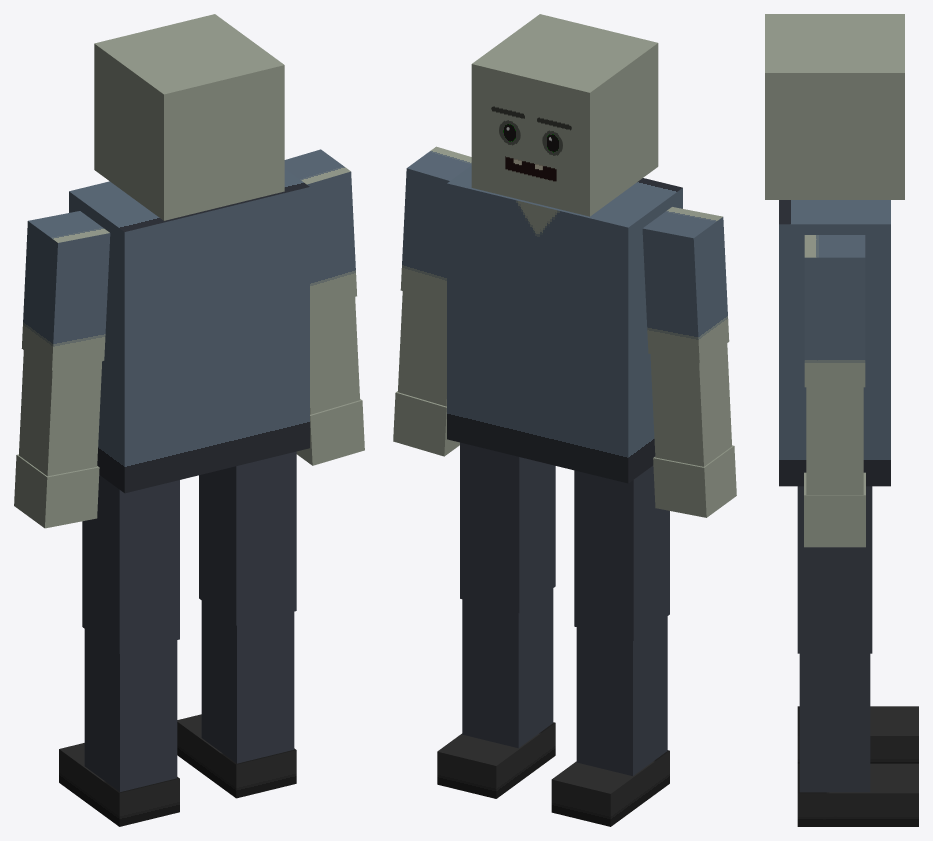
File: hair_bald.glb
3 renders of one model, left to right at view 1: azimuth 30°, elevation 25°; view 2: azimuth 150°, elevation 25°; view 3: azimuth 270°, elevation 25°, orthographic. The views are drawn at different scales.
Parts seen in each view (by area): view 1: block_torso, block_head, block_thigh.L, block_thigh.R, block_shin.R, block_shin.L, block_upper_arm.L, block_forearm.L, block_upper_arm.R, block_forearm.R, block_foot.L, block_foot.R (+2 smaller); view 2: block_torso, block_head, block_thigh.L, block_thigh.R, block_shin.L, block_shin.R, block_upper_arm.L, block_forearm.L, block_upper_arm.R, block_foot.L, block_foot.R, block_forearm.R (+2 smaller); view 3: block_head, block_torso, block_shin.R, block_upper_arm.R, block_thigh.R, block_forearm.R, block_foot.R, block_hand.R, block_foot.L.
Part boxes in pixels (x1=…): block_torso: x1=69, y1=169, x2=309, y2=493; block_head: x1=94, y1=14, x2=284, y2=220; block_thigh.L: x1=82, y1=475, x2=179, y2=653; block_thigh.R: x1=199, y1=451, x2=296, y2=625; block_shin.R: x1=201, y1=600, x2=294, y2=763; block_shin.L: x1=84, y1=629, x2=177, y2=791; block_upper_arm.L: x1=21, y1=211, x2=110, y2=370; block_forearm.L: x1=19, y1=350, x2=102, y2=476; block_upper_arm.R: x1=284, y1=149, x2=356, y2=309; block_forearm.R: x1=310, y1=297, x2=359, y2=414; block_foot.L: x1=59, y1=743, x2=179, y2=826; block_foot.R: x1=177, y1=714, x2=296, y2=798; block_torso: x1=447, y1=165, x2=682, y2=483; block_head: x1=471, y1=14, x2=658, y2=216; block_thigh.L: x1=574, y1=465, x2=669, y2=640; block_thigh.R: x1=460, y1=442, x2=555, y2=612; block_shin.L: x1=576, y1=616, x2=667, y2=775; block_shin.R: x1=462, y1=588, x2=553, y2=748; block_upper_arm.L: x1=642, y1=207, x2=729, y2=363; block_forearm.L: x1=650, y1=343, x2=731, y2=466; block_upper_arm.R: x1=400, y1=146, x2=471, y2=303; block_foot.L: x1=551, y1=750, x2=669, y2=826; block_foot.R: x1=437, y1=722, x2=555, y2=798; block_forearm.R: x1=398, y1=291, x2=446, y2=406; block_head: x1=765, y1=14, x2=904, y2=199; block_torso: x1=779, y1=200, x2=890, y2=486; block_shin.R: x1=799, y1=653, x2=870, y2=792; block_upper_arm.R: x1=804, y1=235, x2=865, y2=387; block_thigh.R: x1=797, y1=486, x2=872, y2=653; block_forearm.R: x1=806, y1=387, x2=863, y2=494; block_foot.R: x1=797, y1=763, x2=918, y2=826; block_hand.R: x1=804, y1=472, x2=865, y2=547; block_foot.L: x1=797, y1=706, x2=918, y2=763.
Size of the model in its own units: 0.7948 by 1.75 by 0.33.
Materials: 1 (1 with a texture image).
